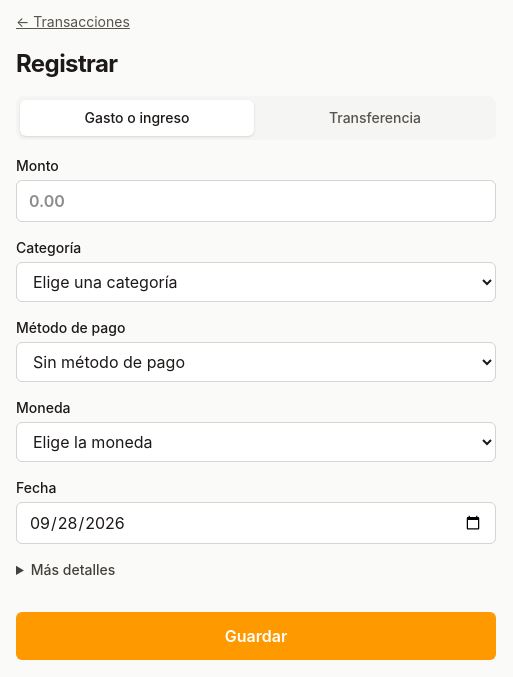
installments in the movement form › offers installments only with a configured card, and says why not with an unconfigured one
In the field labelled "Monto": x=256, y=201 [16,180,496,222], type "100"
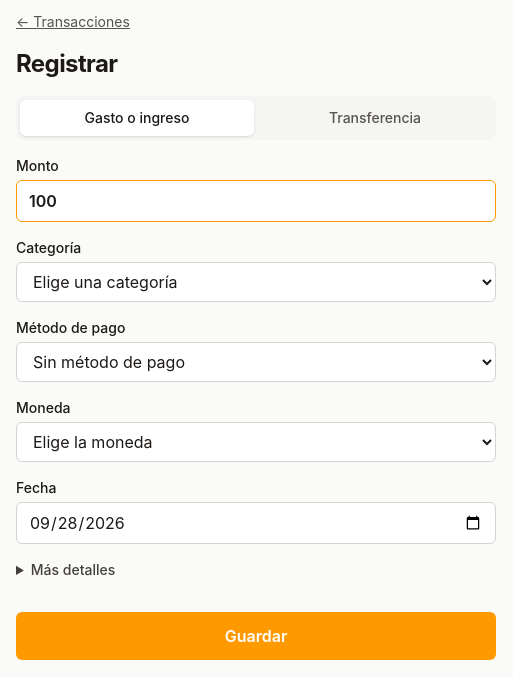
Select "Electrodomésticos" in the dropdown labelled "Categoría": x=256, y=282 [16,262,496,302]
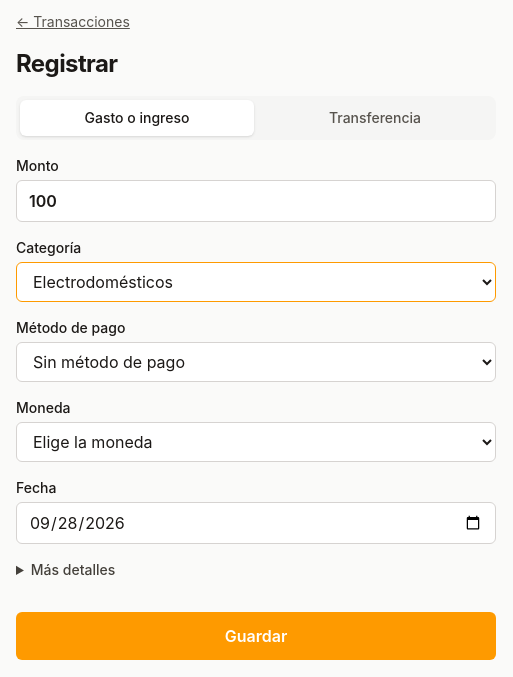
Select "Sueldo" in the dropdown labelled "Método de pago": x=256, y=362 [16,342,496,382]
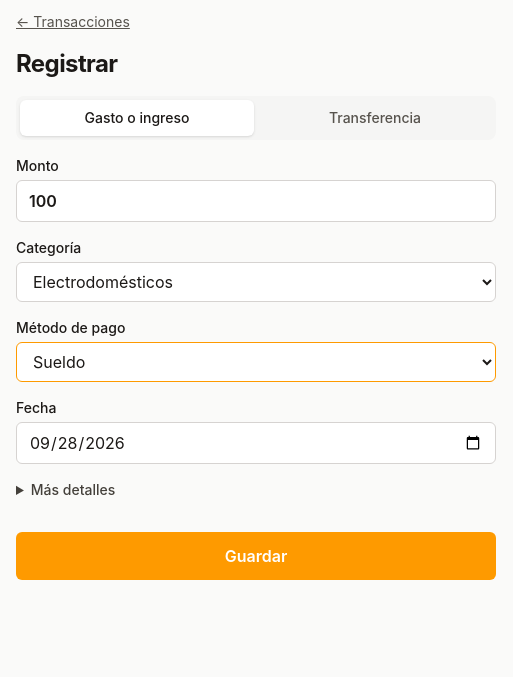
Expected: the field labelled "En cuotas" is not shown
Select "Amex ···· 4321" in the dropdown labelled "Método de pago": x=256, y=362 [16,342,496,382]
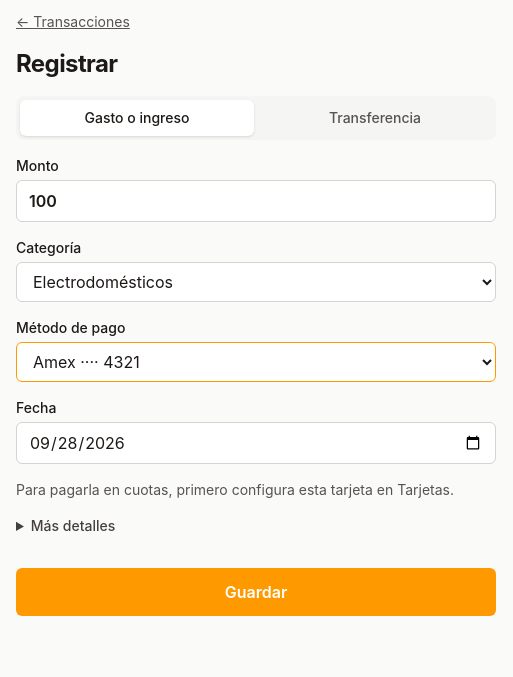
Result: the text "Para pagarla en cuotas, primero configura esta tarjeta en Tarjetas." is shown at [16,480,496,500]
Select "Visa ···· 4321" in the dropdown labelled "Método de pago": x=256, y=362 [16,342,496,382]
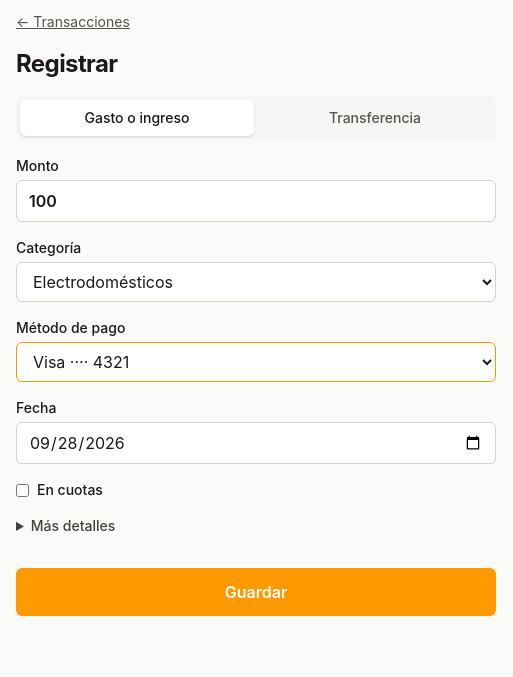
Result: the checkbox labelled "En cuotas" is shown at [16,484,29,496]
